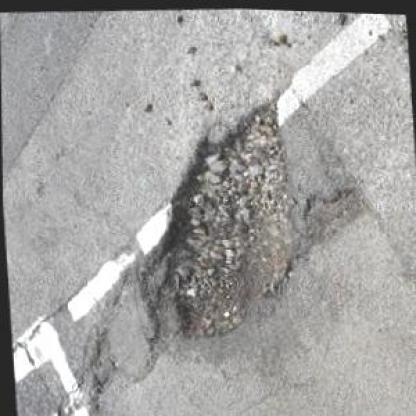pothole: (130, 88, 305, 342), (297, 178, 370, 236), (75, 327, 119, 410)
